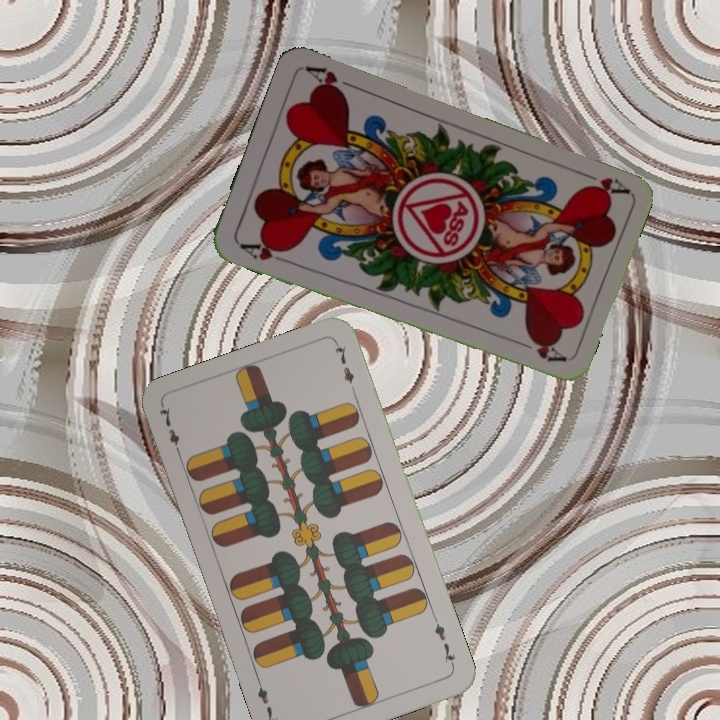E7: (429, 613, 458, 670), (155, 403, 184, 459)
HA: (573, 166, 630, 200), (235, 237, 292, 266)
